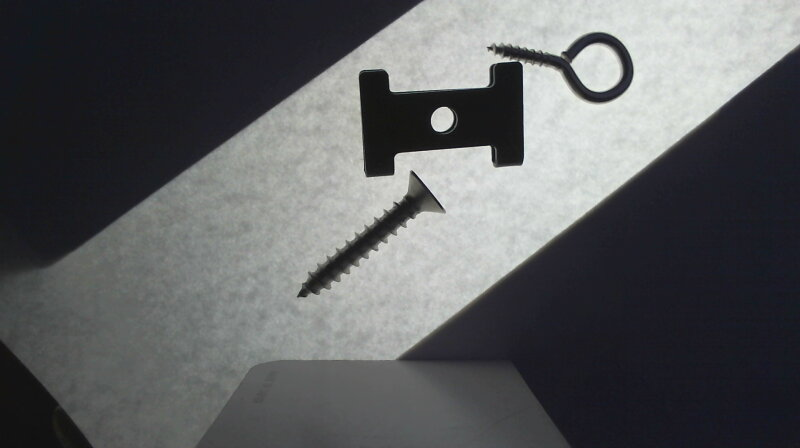O001: (485, 29, 635, 104)
O002: (356, 62, 527, 176)
S001: (295, 169, 446, 302)
